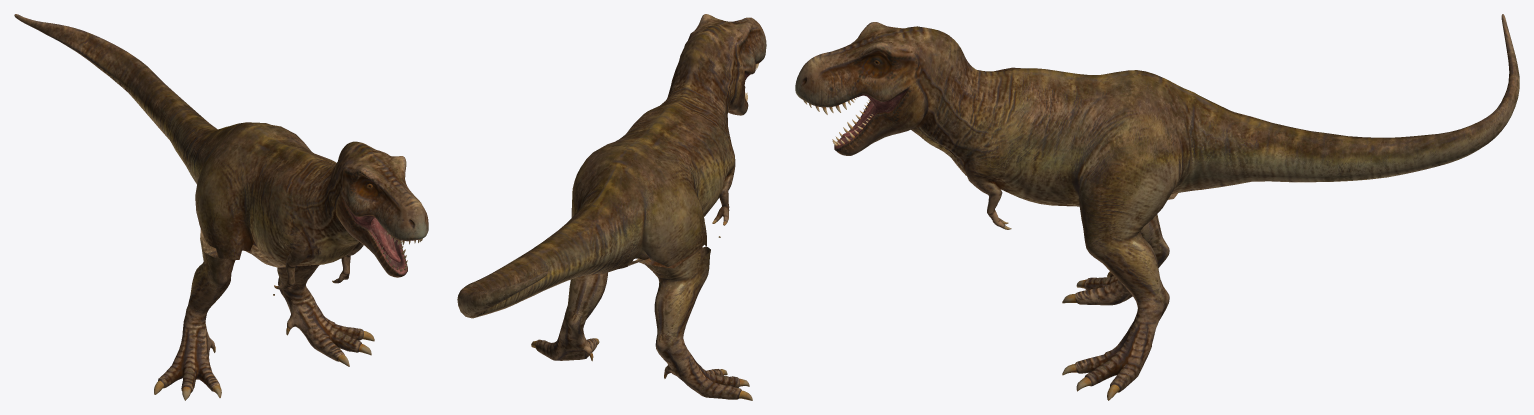
Rendered from trex.glb.
3 renders of one model, left to right at view 1: azimuth 30°, elevation 25°; view 2: azimuth 150°, elevation 25°; view 3: azimuth 270°, elevation 25°, orthographic. The views are drawn at different scales.
Parts seen in each view (by area): view 1: trex; view 2: trex; view 3: trex.
Part boxes in pixels (x1,y1,x2,y2): trex: [14, 14, 428, 400]; trex: [457, 14, 766, 400]; trex: [795, 14, 1519, 400].
Bounding box in the file's own units: 3.23 × 3.91 × 8.02.
Materials: 1 (1 with a texture image).
